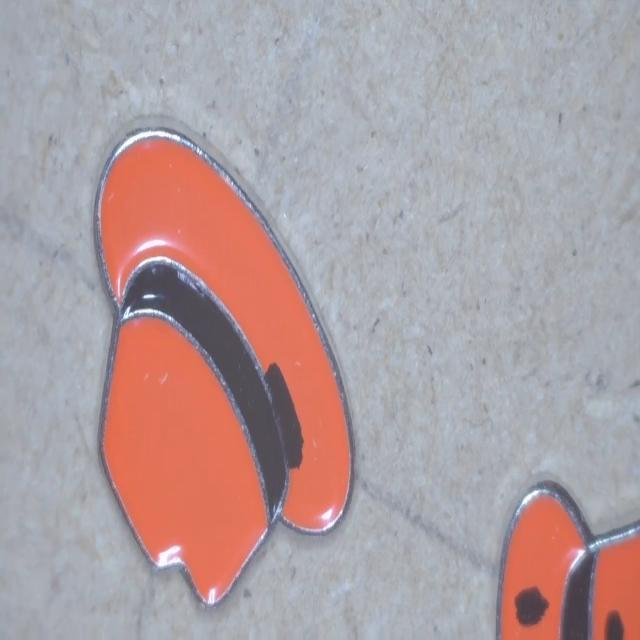Hatband: (121, 269, 288, 529)
Paint_Leak: (264, 369, 302, 476)
RedHatPin: (95, 136, 352, 611)
